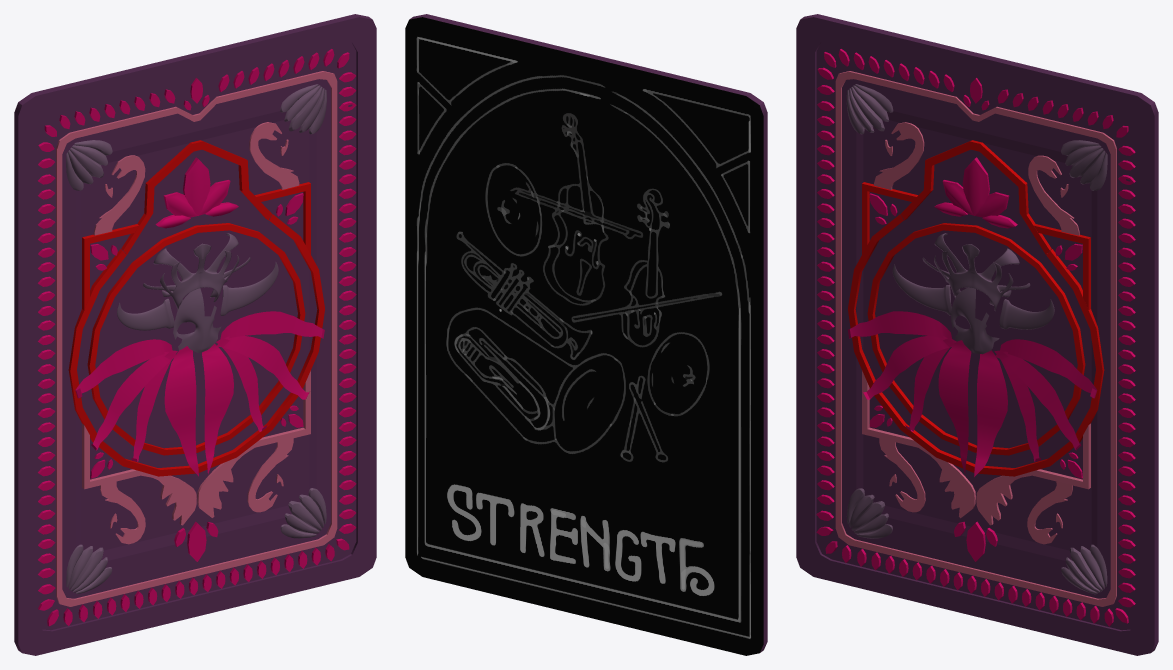
File: Mesh Strength.fbx
3 renders of one model, left to right at view 1: azimuth 30°, elevation 25°; view 2: azimuth 150°, elevation 25°; view 3: azimuth 330°, elevation 25°, orthographic.
Visible parts, largest first — view 1: Death1; view 2: Death1; view 3: Death1.
Boxes of the visible parts, x1=… form: Death1: x1=14, y1=14, x2=376, y2=655; Death1: x1=405, y1=14, x2=767, y2=655; Death1: x1=796, y1=14, x2=1158, y2=655.
Size of the model in its own units: 321 by 479 by 15.55.
